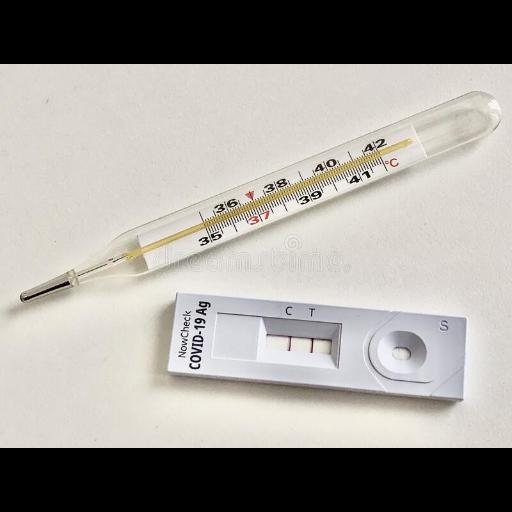Pos: (168, 294, 466, 399)
